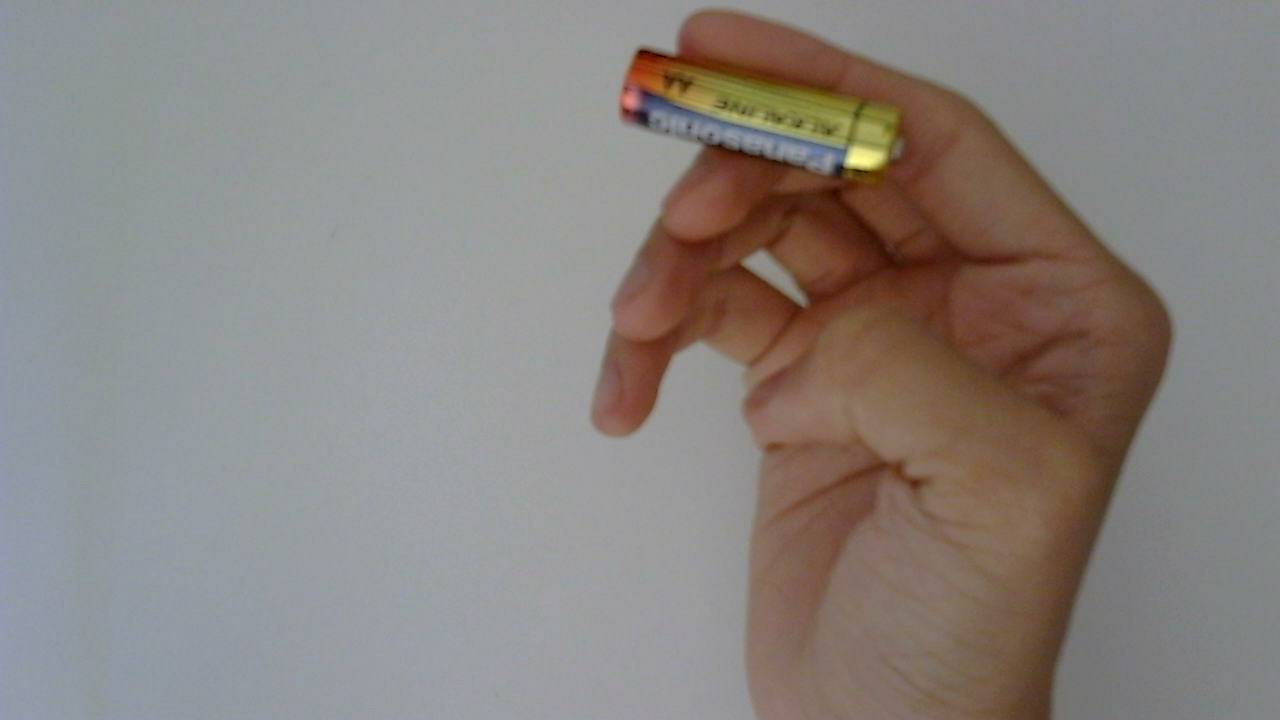Battery: (620, 49, 916, 196)
